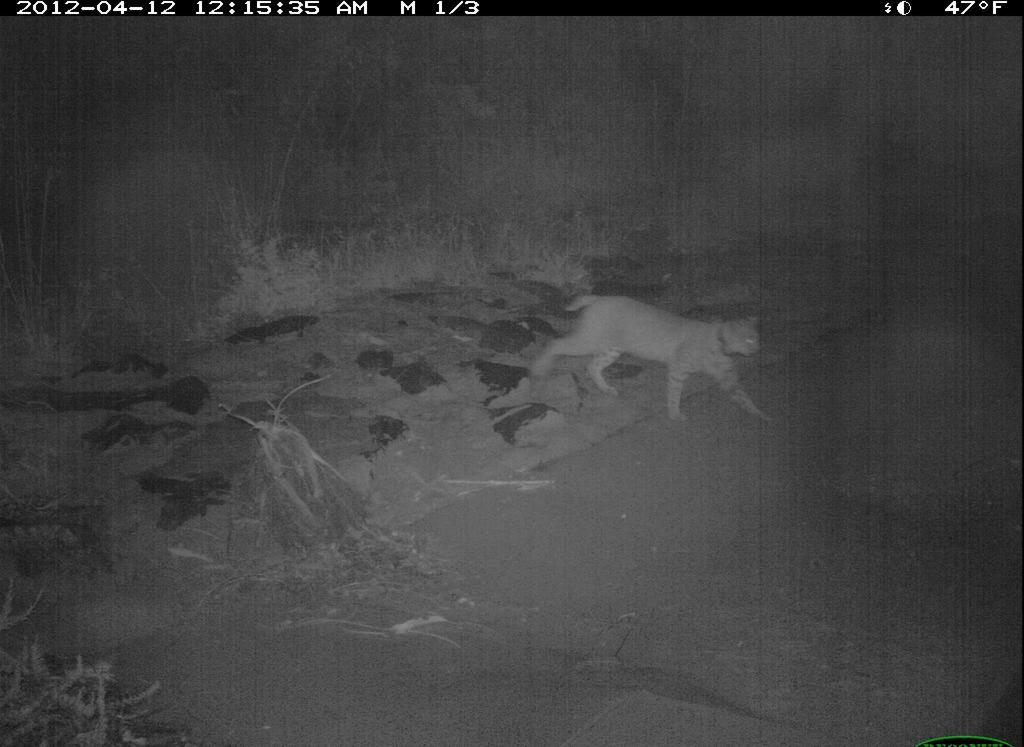bobcat: (528, 289, 783, 433)
